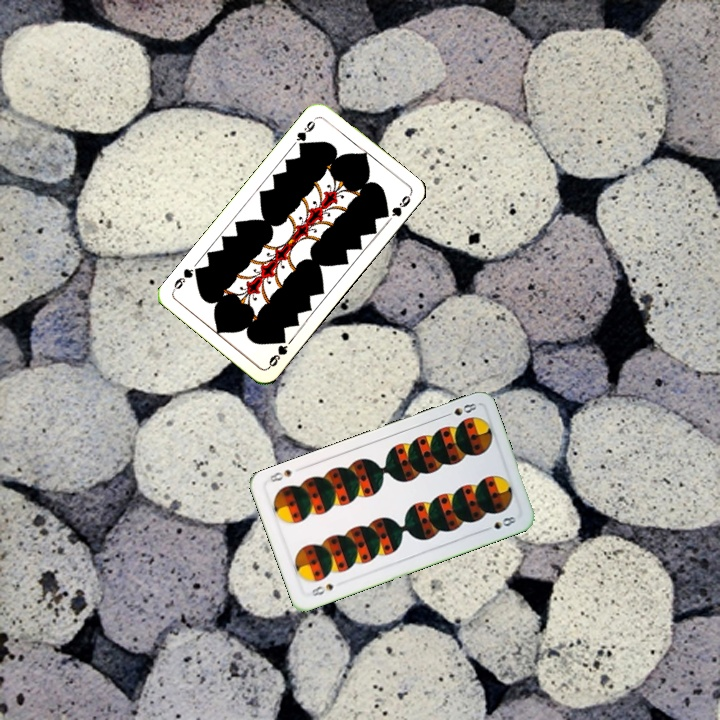G9: (292, 114, 319, 151), (264, 333, 290, 371)
S8: (440, 399, 480, 421), (308, 579, 336, 599)
